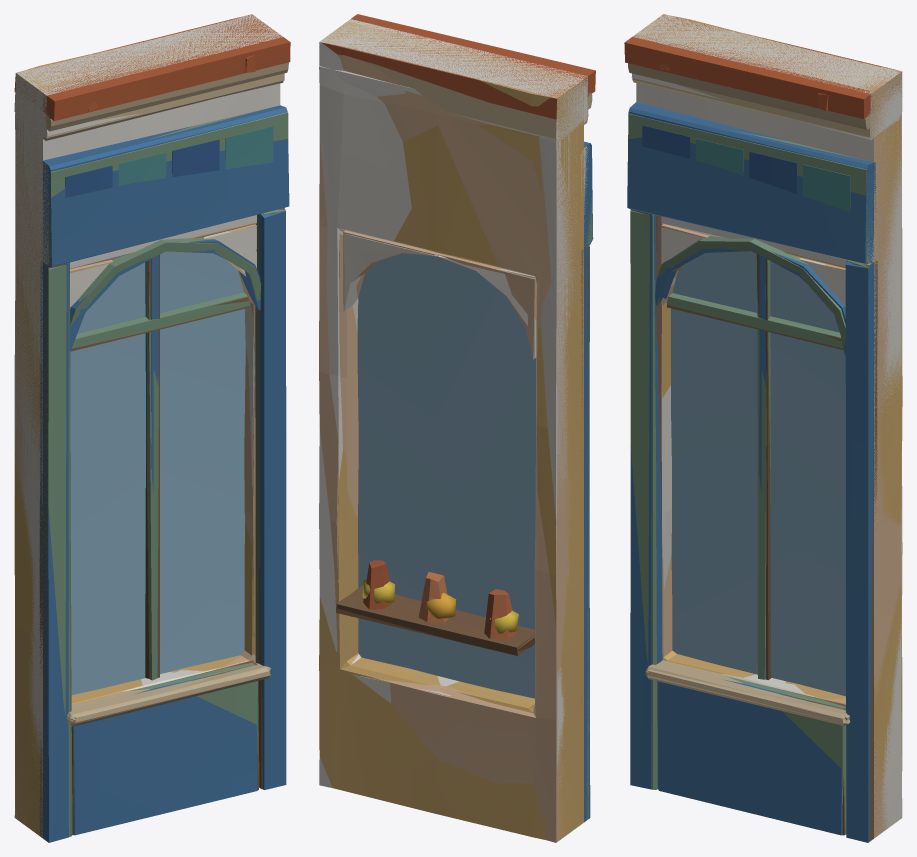
File: wall.shopfront.glb
The picture shows the model from 3 angles, left to right: view 1: azimuth 30°, elevation 25°; view 2: azimuth 150°, elevation 25°; view 3: azimuth 330°, elevation 25°; orthographic projection.
Visible parts, largest first — view 1: wall.shopfront.v1.mesh, wall.shopfront.v0.mesh, wall.shopfront.v2.mesh; view 2: wall.shopfront.v2.mesh, wall.shopfront.v1.mesh, wall.shopfront.v0.mesh; view 3: wall.shopfront.v1.mesh, wall.shopfront.v0.mesh, wall.shopfront.v2.mesh.
Part boxes in pixels (x1,y1,x2,y2): wall.shopfront.v1.mesh: (14, 14, 290, 838); wall.shopfront.v0.mesh: (14, 14, 289, 842); wall.shopfront.v2.mesh: (14, 15, 288, 836); wall.shopfront.v2.mesh: (319, 19, 592, 842); wall.shopfront.v1.mesh: (319, 14, 595, 840); wall.shopfront.v0.mesh: (319, 19, 593, 822); wall.shopfront.v1.mesh: (624, 14, 902, 841); wall.shopfront.v0.mesh: (627, 14, 902, 842); wall.shopfront.v2.mesh: (628, 14, 902, 838).
Size of the model in its own units: 0.9999 by 3 by 0.3713.
